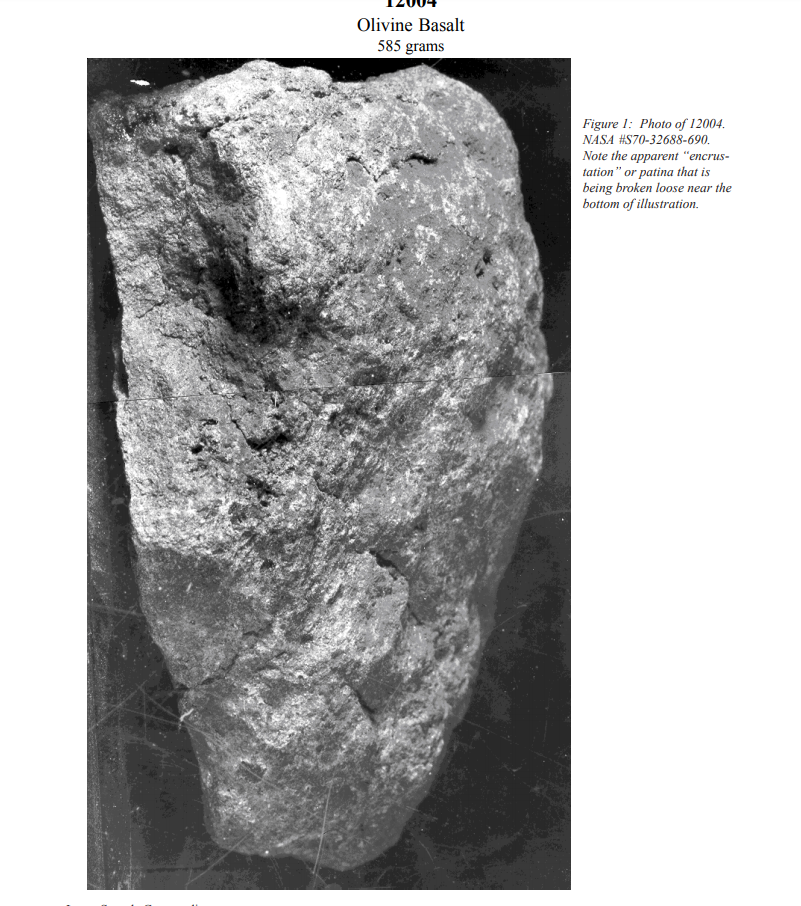Basalt: (85, 55, 567, 889)
